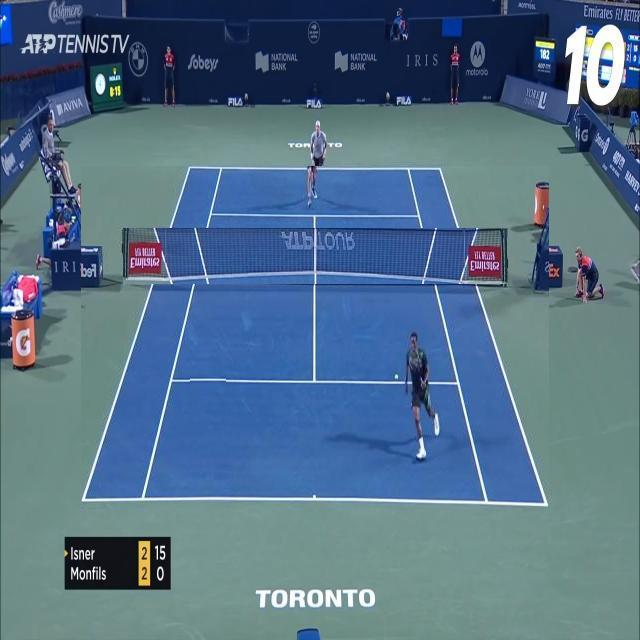court: (81, 166, 549, 508)
net: (123, 228, 508, 284)
player: (190, 332, 227, 462)
